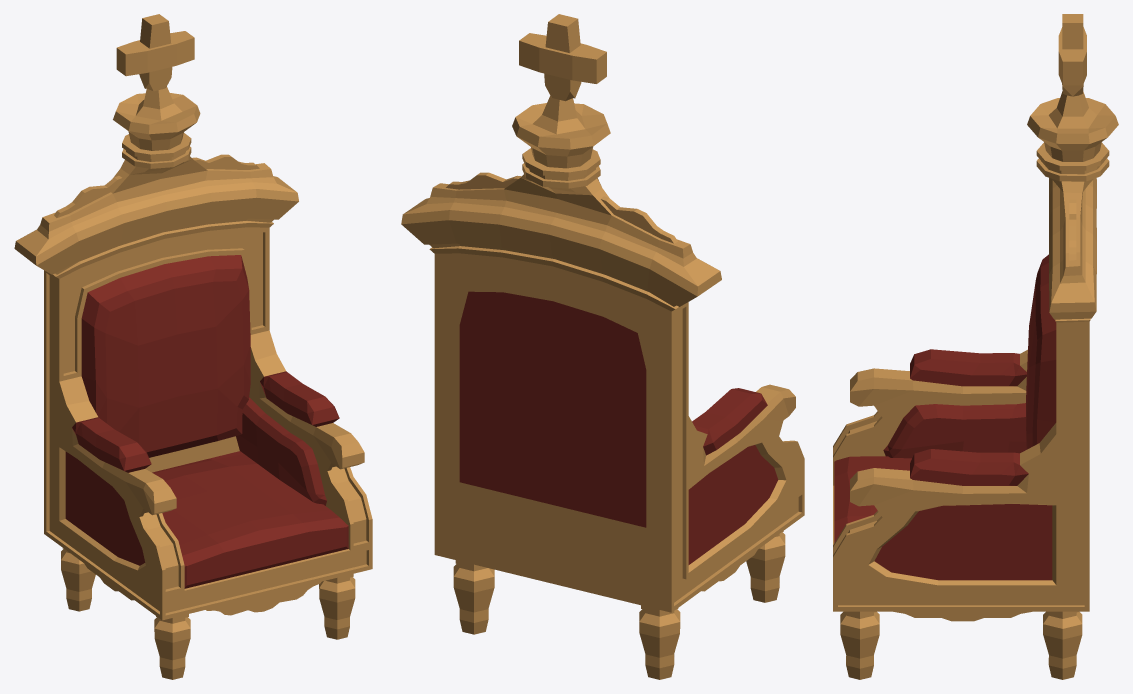
The model's file is castle_throne.gltf.
The picture shows the model from 3 angles, left to right: view 1: azimuth 30°, elevation 25°; view 2: azimuth 150°, elevation 25°; view 3: azimuth 270°, elevation 25°; orthographic projection. The views are drawn at different scales.
Visible parts, largest first — view 1: castle_throne; view 2: castle_throne; view 3: castle_throne.
Part boxes in pixels (x1,y1,x2,y2): castle_throne: (14, 14, 372, 679); castle_throne: (401, 14, 804, 679); castle_throne: (833, 14, 1118, 679).
Size of the model in its own units: 0.8866 by 1.82 by 0.769.
Materials: 1 (1 with a texture image).
